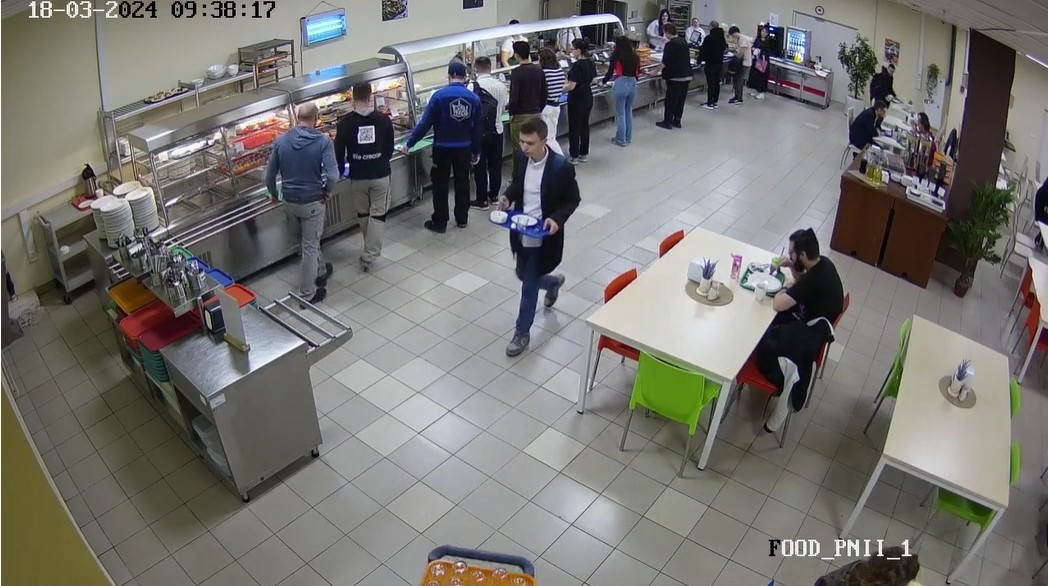Na_Kasse: (701, 19, 722, 111), (729, 24, 749, 106), (752, 24, 769, 96)
Ne_v_Ocheredi: (488, 122, 579, 357)
Personal: (458, 32, 482, 60), (508, 18, 530, 48), (651, 5, 676, 28), (684, 12, 705, 38)
Vybiraet: (283, 101, 332, 305), (344, 83, 396, 273), (426, 58, 475, 251), (470, 50, 497, 216), (655, 27, 689, 125), (567, 37, 594, 158), (504, 43, 543, 122), (611, 36, 637, 146), (544, 47, 560, 138)
Za_Stolom: (757, 223, 844, 335), (804, 520, 930, 586), (845, 102, 888, 156), (1034, 167, 1048, 247), (866, 60, 895, 95), (910, 119, 935, 154)
